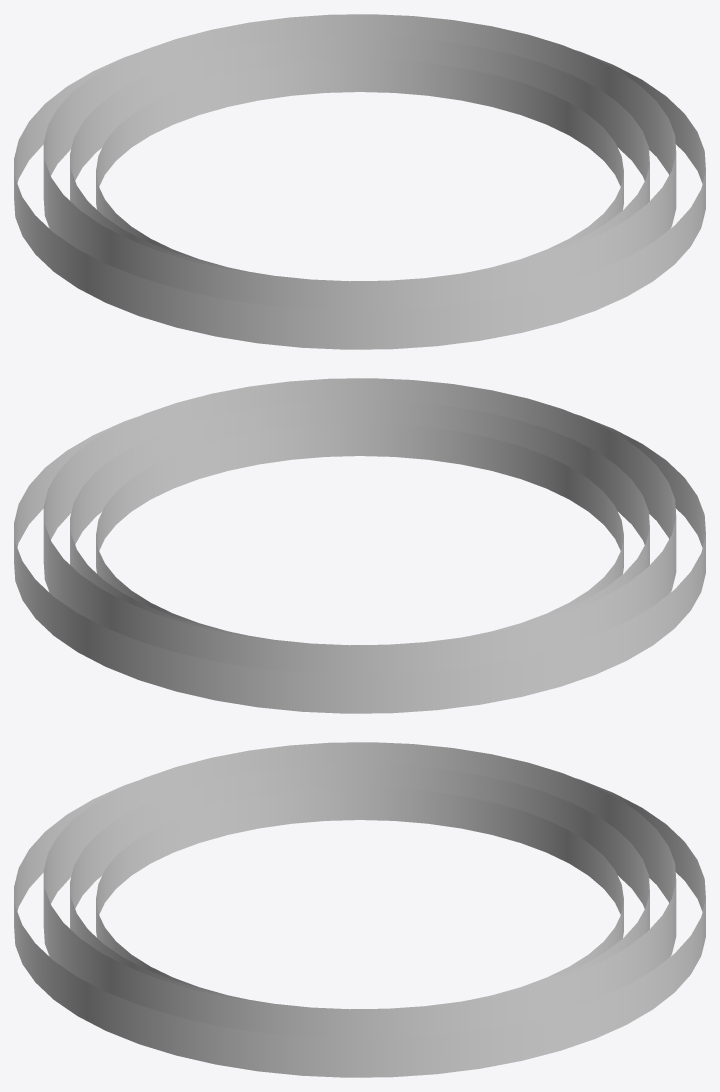
File: SM_Gen_Env_Skyline_01.glb
3 views of the same model, one above another, from view 1: azimuth 30°, elevation 25°; view 2: azimuth 150°, elevation 25°; view 3: azimuth 270°, elevation 25° (orthographic).
Visible parts, largest first — view 1: SM_Gen_Env_Skyline_04, SM_Gen_Env_Skyline_03, SM_Gen_Env_Skyline_02, SM_Gen_Env_Skyline_01; view 2: SM_Gen_Env_Skyline_04, SM_Gen_Env_Skyline_03, SM_Gen_Env_Skyline_02, SM_Gen_Env_Skyline_01; view 3: SM_Gen_Env_Skyline_04, SM_Gen_Env_Skyline_03, SM_Gen_Env_Skyline_02, SM_Gen_Env_Skyline_01.
Boxes of the visible parts, bbox=[...] form: SM_Gen_Env_Skyline_04: bbox=[43, 14, 676, 310]; SM_Gen_Env_Skyline_03: bbox=[14, 50, 705, 349]; SM_Gen_Env_Skyline_02: bbox=[70, 36, 649, 281]; SM_Gen_Env_Skyline_01: bbox=[96, 59, 623, 271]; SM_Gen_Env_Skyline_04: bbox=[43, 378, 676, 674]; SM_Gen_Env_Skyline_03: bbox=[14, 414, 705, 713]; SM_Gen_Env_Skyline_02: bbox=[70, 400, 649, 645]; SM_Gen_Env_Skyline_01: bbox=[96, 423, 623, 635]; SM_Gen_Env_Skyline_04: bbox=[43, 742, 676, 1038]; SM_Gen_Env_Skyline_03: bbox=[14, 778, 705, 1077]; SM_Gen_Env_Skyline_02: bbox=[70, 764, 649, 1009]; SM_Gen_Env_Skyline_01: bbox=[96, 787, 623, 999].
Bounding box in the file's own units: 437 × 38.79 × 437.
Materials: 1 (1 with a texture image).
